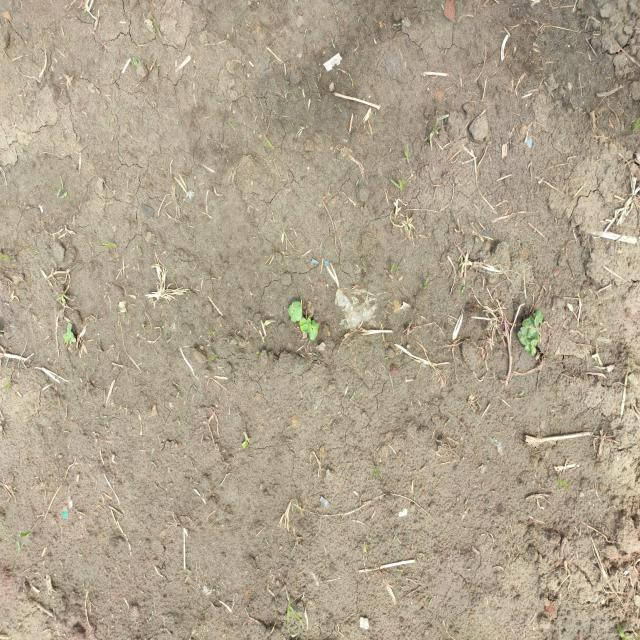seedling: (291, 301, 302, 321), (521, 327, 539, 339), (288, 305, 297, 323), (524, 344, 536, 356), (522, 317, 535, 328), (300, 318, 309, 333), (519, 336, 533, 345), (308, 329, 317, 341), (311, 320, 319, 333), (535, 311, 543, 324), (67, 323, 73, 339), (532, 314, 539, 327), (306, 317, 312, 330), (518, 327, 524, 339), (63, 333, 70, 342)
